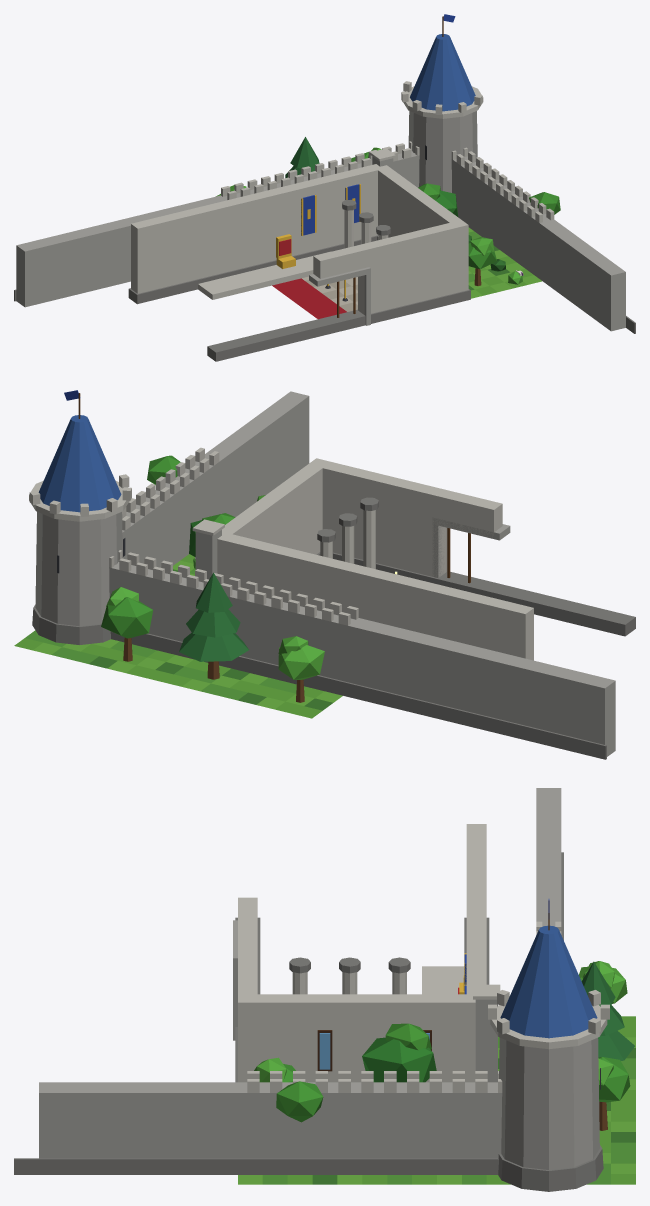
The model's file is chunk_2_0.glb.
3 views of the same model, one above another, from view 1: azimuth 30°, elevation 25°; view 2: azimuth 150°, elevation 25°; view 3: azimuth 270°, elevation 25° (orthographic). The views are drawn at different scales.
Parts seen in each view (by area): view 1: chunk_2_0; view 2: chunk_2_0; view 3: chunk_2_0.
Part boxes in pixels (x1,y1,x2,y2): chunk_2_0: (14,14,635,361); chunk_2_0: (14,390,635,759); chunk_2_0: (14,788,635,1191).
Size of the model in its own units: 30.95 by 12.11 by 25.
